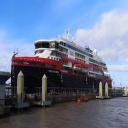cruises: (9, 24, 114, 91)
